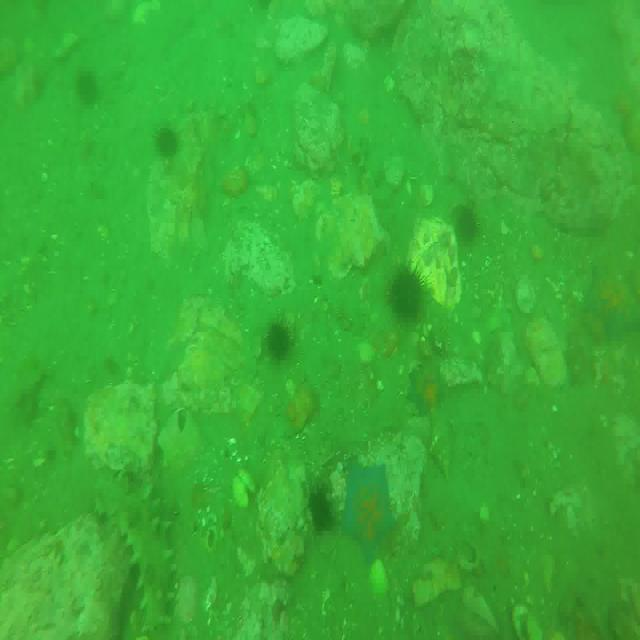echinus: (392, 264, 422, 321), (309, 485, 333, 527), (266, 320, 290, 360), (158, 122, 183, 160), (76, 70, 100, 108), (456, 206, 478, 243)
holothurian: (94, 472, 176, 632), (343, 454, 395, 556), (589, 264, 640, 343), (411, 367, 444, 411)
scallop: (229, 465, 256, 510)
